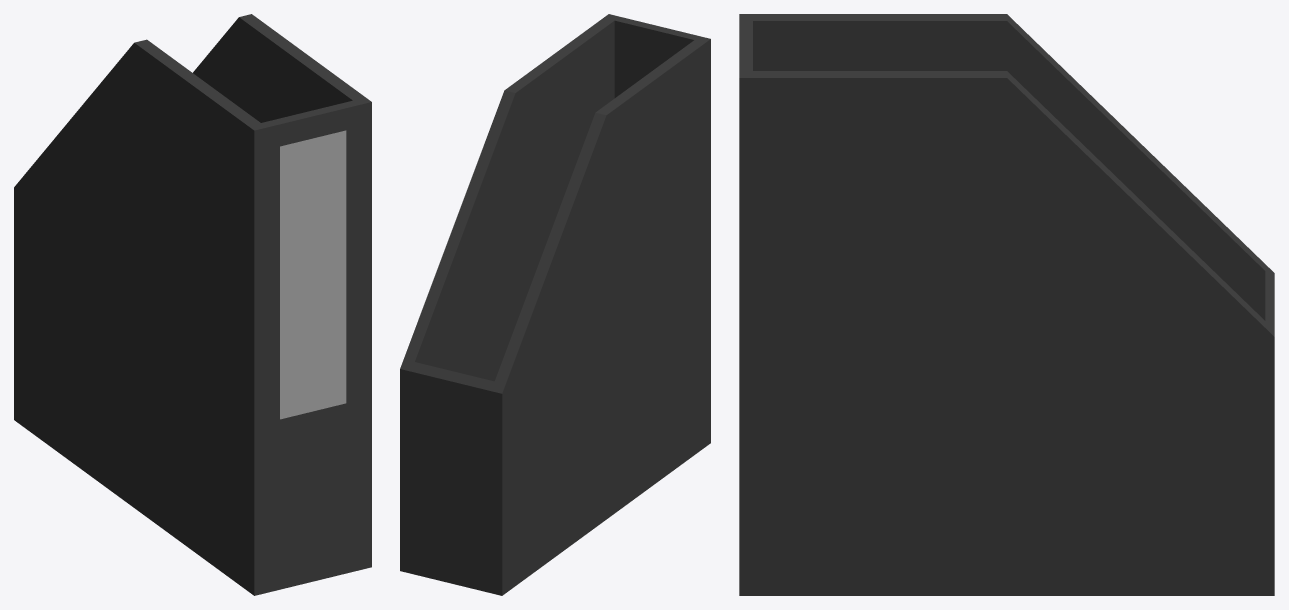
File: FileHolderV1Black.fbx
3 renders of one model, left to right at view 1: azimuth 30°, elevation 25°; view 2: azimuth 150°, elevation 25°; view 3: azimuth 270°, elevation 25°, orthographic. The views are drawn at different scales.
Visible parts, largest first — view 1: FileHolderV1Black; view 2: FileHolderV1Black; view 3: FileHolderV1Black.
Boxes of the visible parts, bbox=[...] form: FileHolderV1Black: bbox=[14, 14, 371, 595]; FileHolderV1Black: bbox=[400, 14, 710, 595]; FileHolderV1Black: bbox=[739, 14, 1274, 595].
Bounding box in the file's own units: 7.39 × 27.94 × 26.15.
